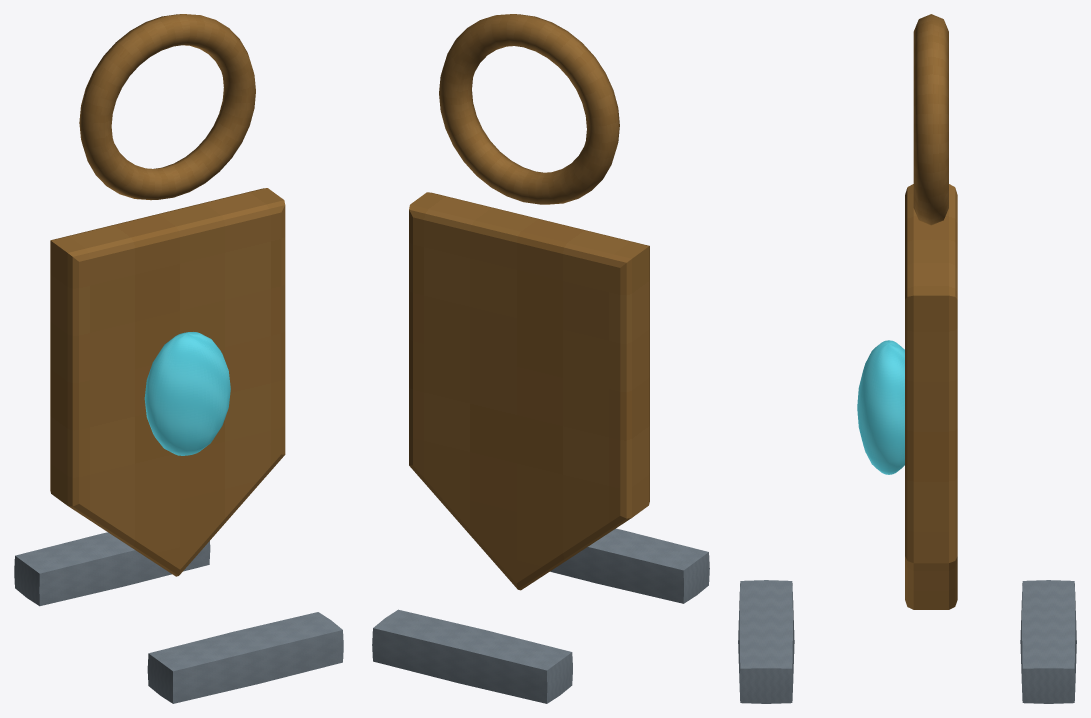
3 renders of one model, left to right at view 1: azimuth 30°, elevation 25°; view 2: azimuth 150°, elevation 25°; view 3: azimuth 270°, elevation 25°, orthographic. The views are drawn at different scales.
Parts seen in each view (by area): view 1: brass.1, brass.0, steel.4, crystal.2, steel.3; view 2: brass.1, brass.0, steel.3, steel.4; view 3: brass.1, brass.0, steel.3, steel.4, crystal.2.
Part boxes in pixels (x1,y1,x2,y2): brass.1: (50, 188, 285, 576); brass.0: (79, 14, 255, 200); steel.4: (147, 612, 343, 703); crystal.2: (144, 332, 230, 455); steel.3: (14, 532, 210, 606); brass.1: (409, 192, 649, 590); brass.0: (439, 14, 619, 204); steel.3: (372, 609, 572, 703); steel.4: (550, 528, 709, 603); brass.1: (905, 184, 957, 609); brass.0: (913, 14, 948, 225); steel.3: (1020, 580, 1076, 703); steel.4: (738, 580, 794, 703); crystal.2: (857, 340, 904, 474).
Bounding box in the file's own units: 0.075 × 0.1993 × 0.096.
Materials: 3 (3 with a texture image).
